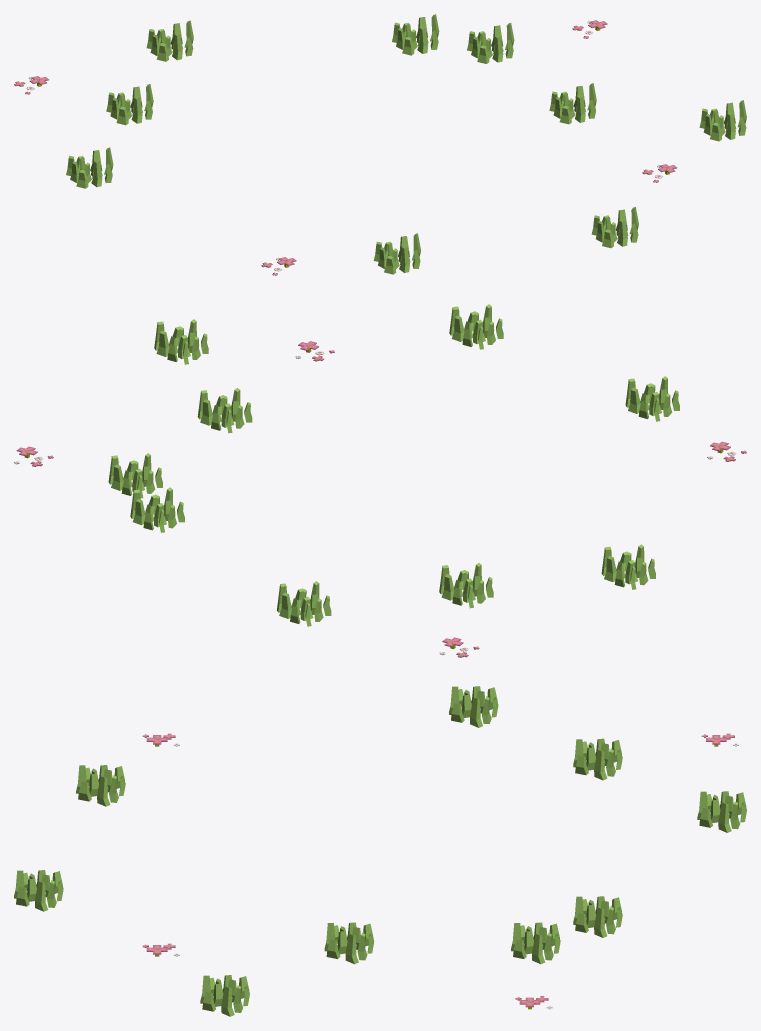
File: flower_grass 24.fbx
The picture shows the model from 3 angles, top to bottom: view 1: azimuth 30°, elevation 25°; view 2: azimuth 150°, elevation 25°; view 3: azimuth 270°, elevation 25°; orthographic projection. The views are drawn at different scales.
Parts seen in each view (by area): view 1: Grass_6; view 2: Grass_6; view 3: Grass_6.
Part boxes in pixels (x1=…): Grass_6: x1=14, y1=14, x2=746, y2=275; Grass_6: x1=14, y1=304, x2=746, y2=657; Grass_6: x1=14, y1=686, x2=746, y2=1016.
Bounding box in the file's own units: 7146 × 294 × 7079.
2 materials, 2 textured.
